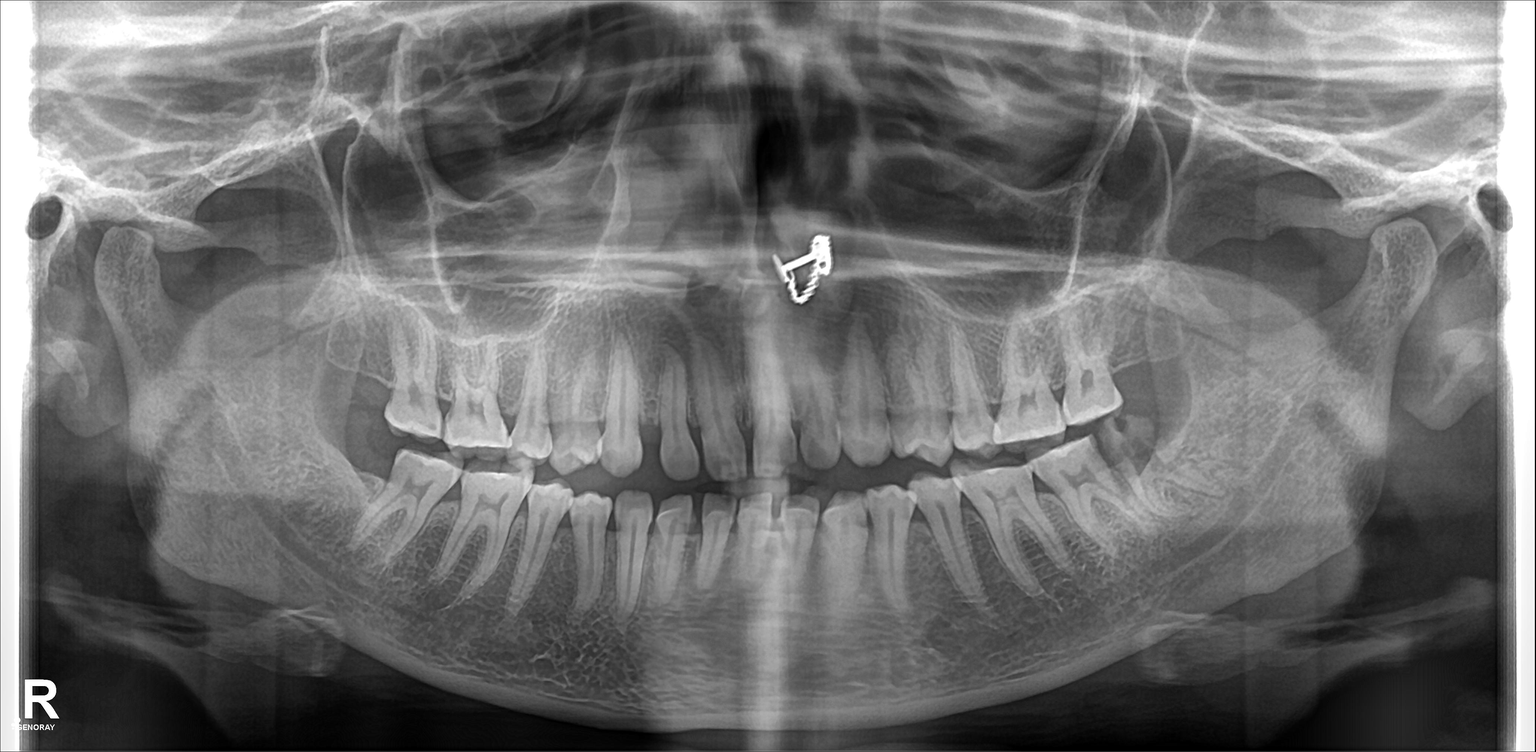Impacted Third Molar: (1108, 419, 1201, 512)
Missing Tooth: (1125, 290, 1177, 411), (341, 318, 392, 422), (337, 441, 384, 541)
